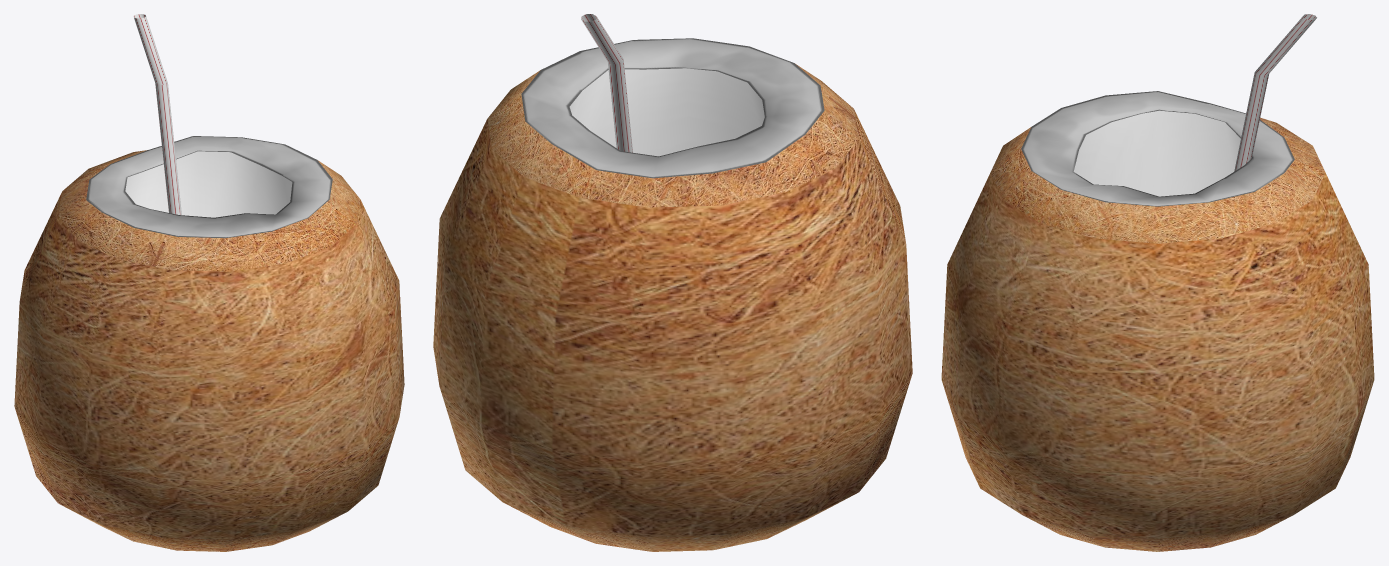
File: coconut_drink.glb
3 views of the same model, side by side, from view 1: azimuth 30°, elevation 25°; view 2: azimuth 150°, elevation 25°; view 3: azimuth 270°, elevation 25° (orthographic). The views are drawn at different scales.
Visible parts, largest first — view 1: coconut_2; view 2: coconut_2; view 3: coconut_2.
Part boxes in pixels (x1,y1,x2,y2): coconut_2: [14, 14, 404, 551]; coconut_2: [433, 14, 912, 551]; coconut_2: [941, 14, 1374, 551].
Bounding box in the file's own units: 1.94 × 2.36 × 1.94.
2 materials, 2 textured.
